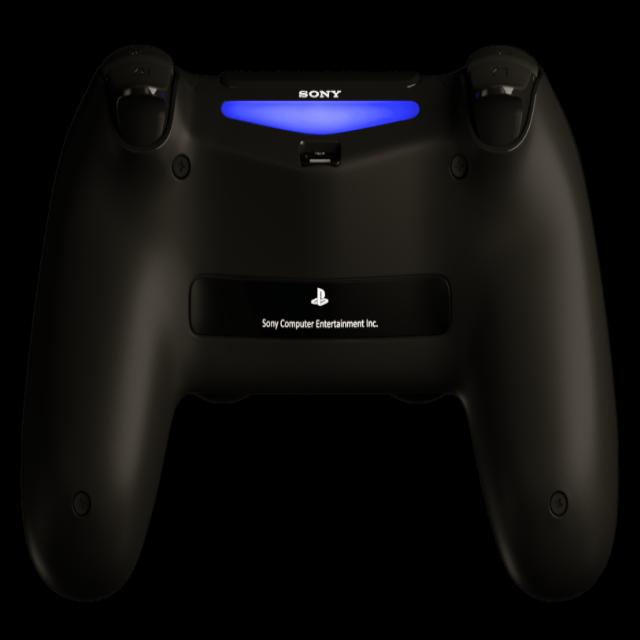ps4_controller: (29, 21, 626, 594)
